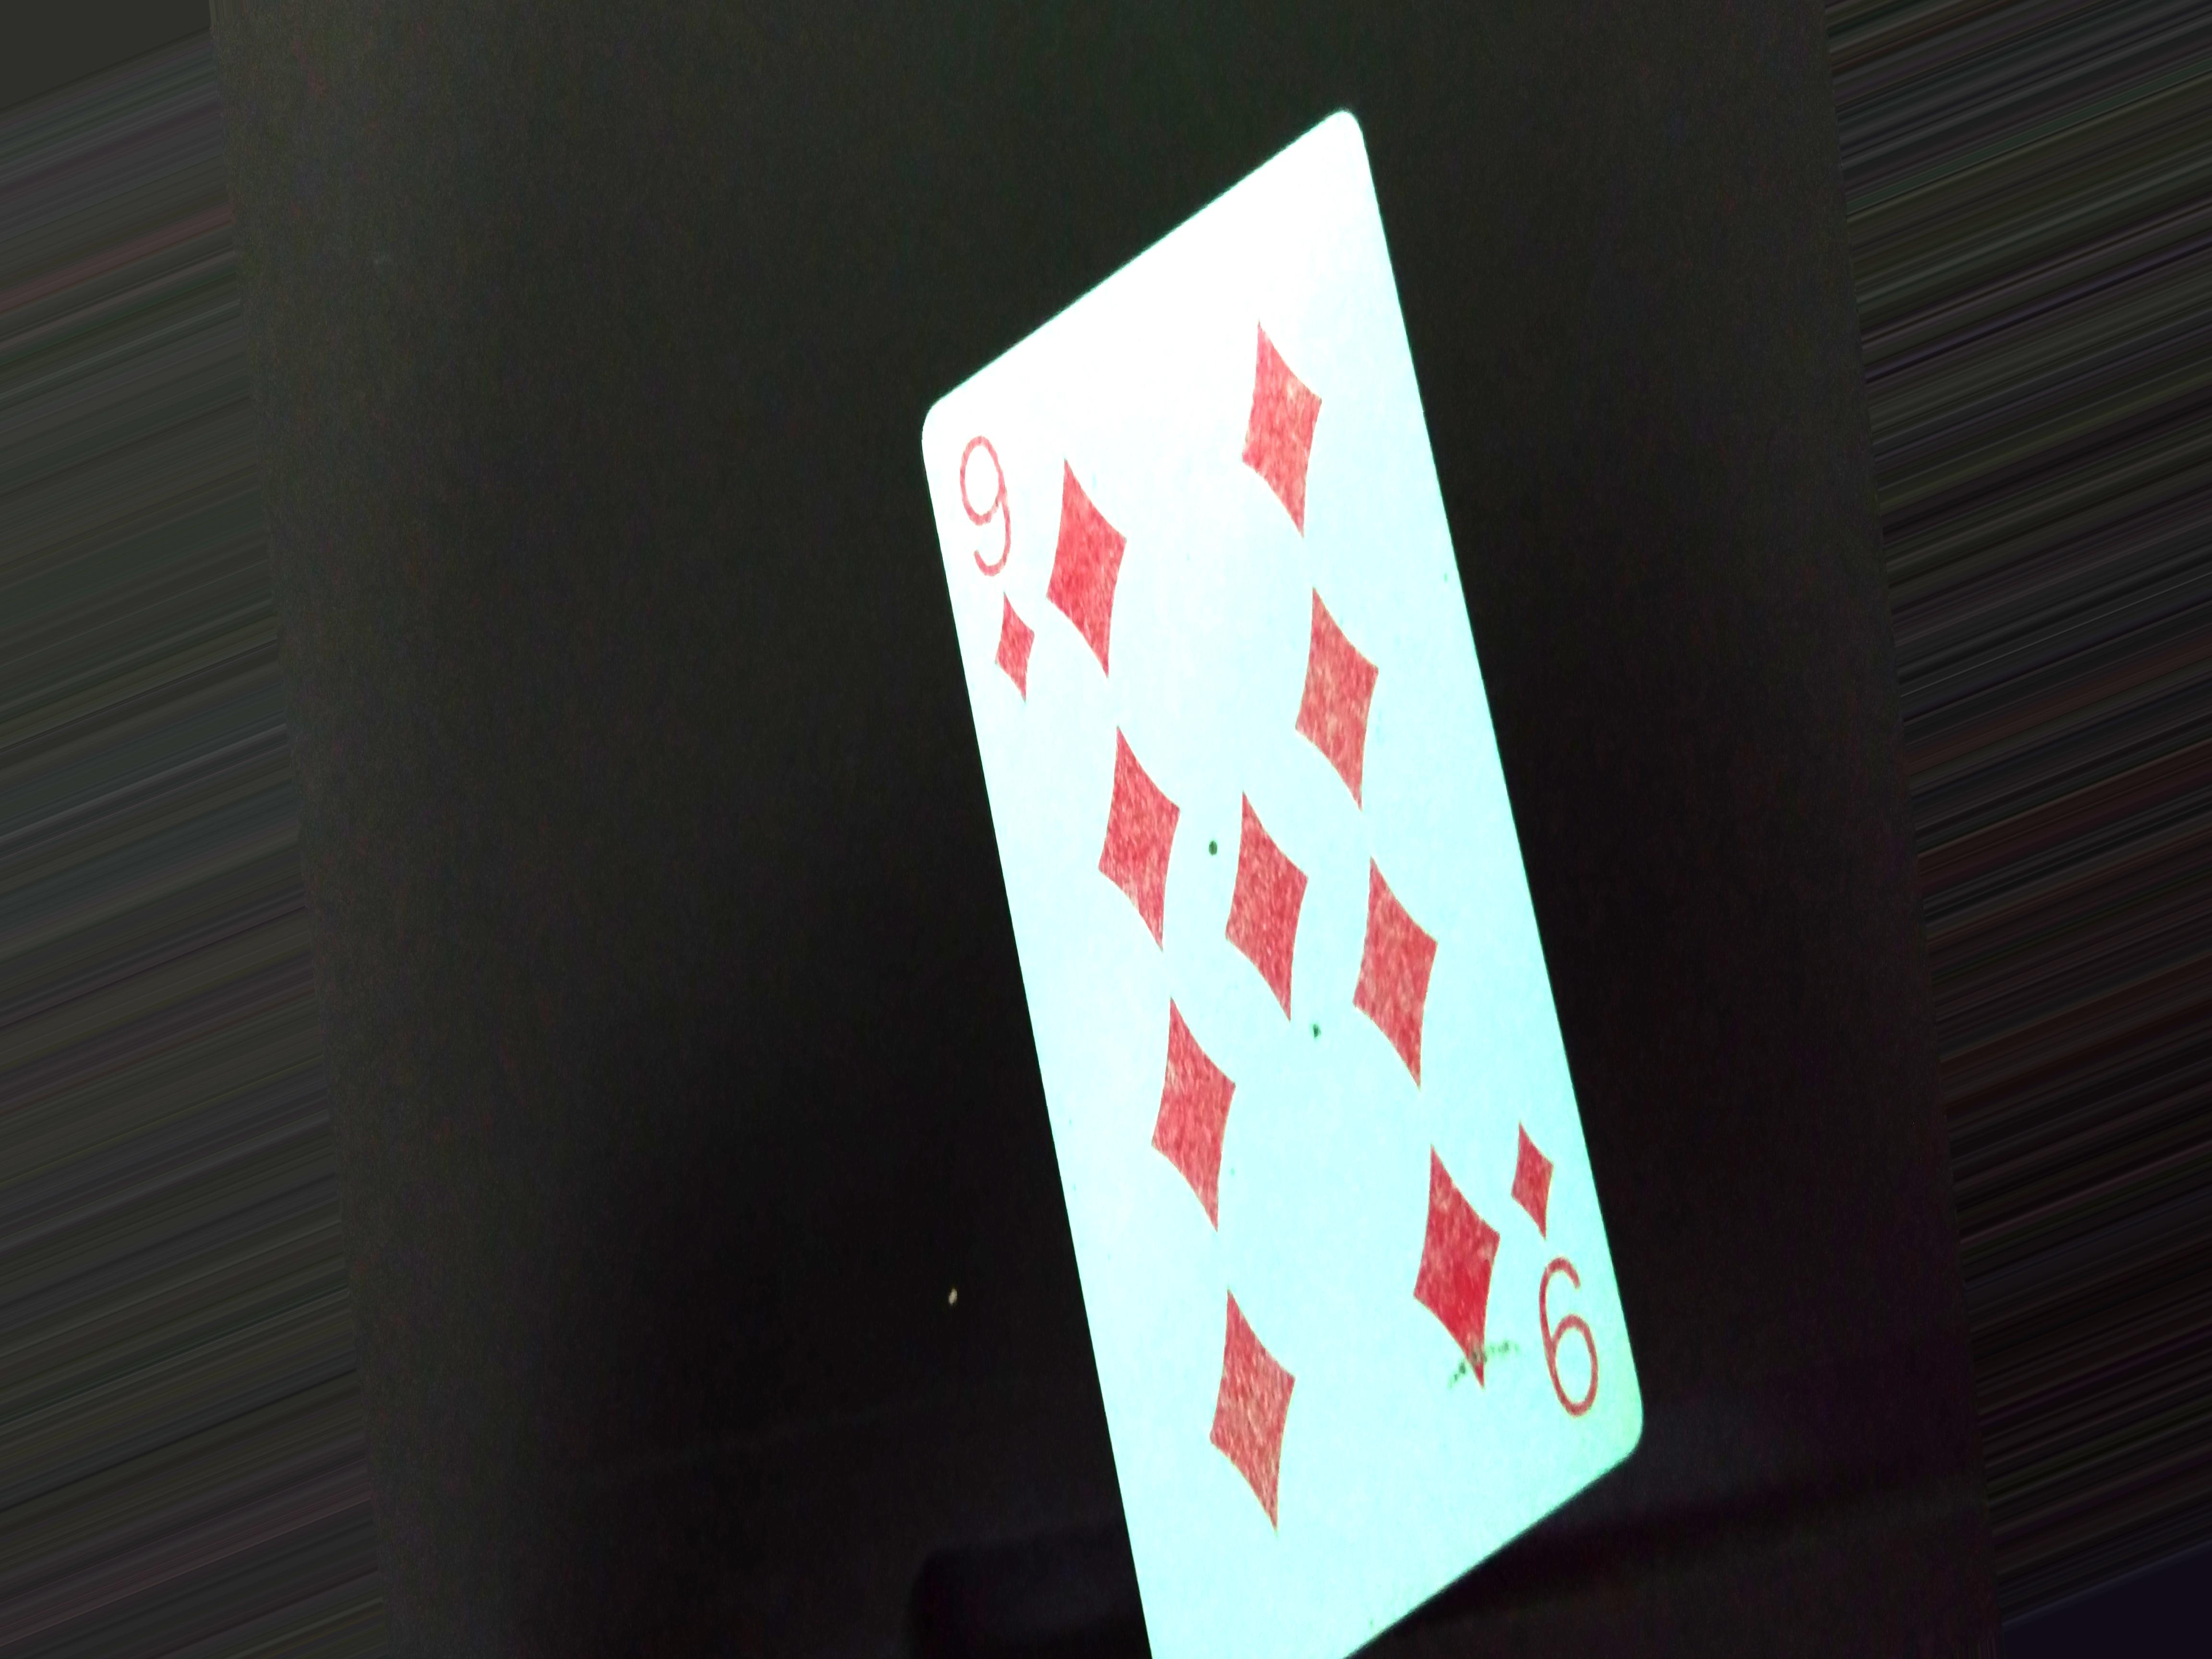9D: (935, 418, 1061, 694)
